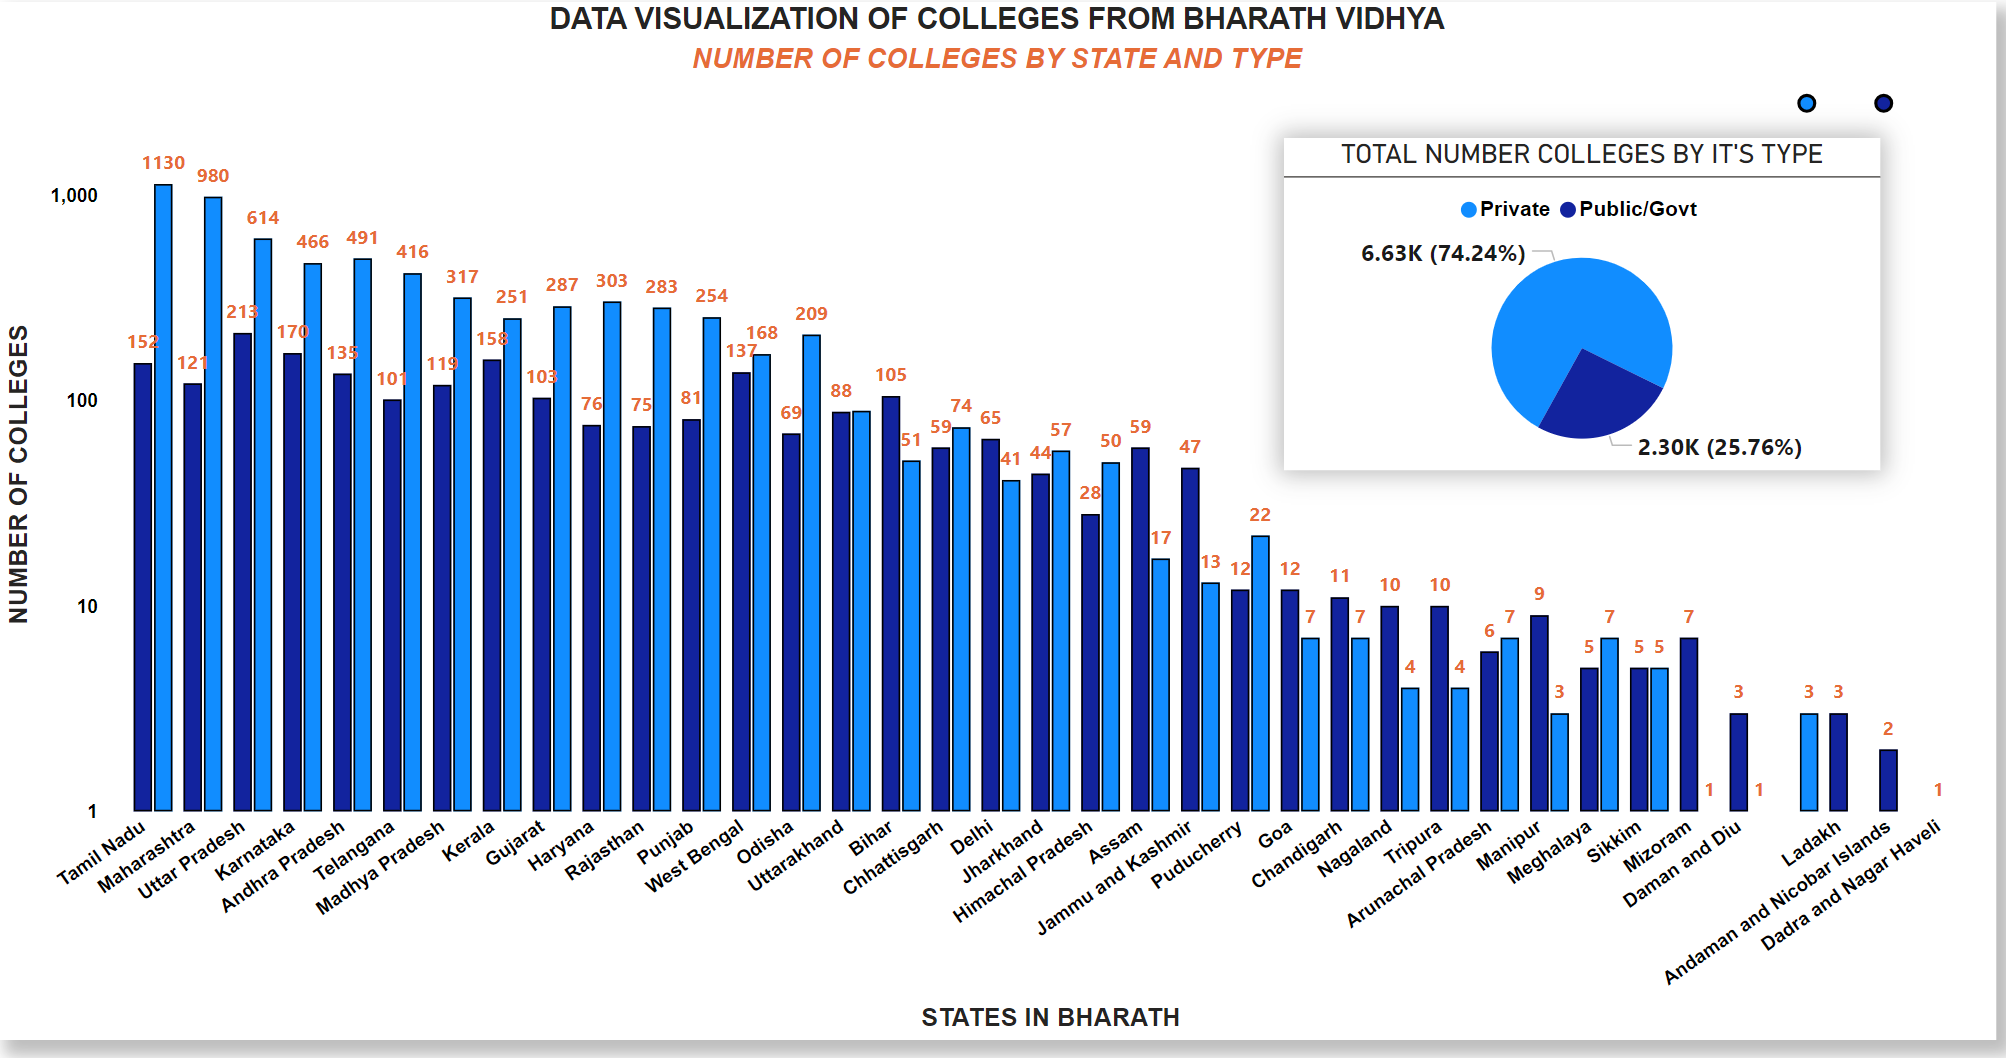

Layout of this report page (visuals, bound fields, positions):
{"tool":"powerbi","page":{"name":"Page 1","canvas":[1280,720],"ordinal":0},"visuals":[{"type":"clusteredColumnChart","title":"DATA VISUALIZATION OF COLLEGES FROM BHARATH VIDHYA","fields":{"Category":["colleges_data.state"],"Y":["CountNonNull(colleges_data.colleges)"],"Series":["colleges_data.type"]},"box":[11.2,10,1231.2,698.8],"z":2},{"type":"pieChart","title":"TOTAL NUMBER COLLEGES BY IT''S TYPE","fields":{"Category":["colleges_data.type"],"Y":["CountNonNull(colleges_data.colleges)"]},"box":[698.8,125,443.8,285],"z":3}]}

Visuals, with their boxes on the page's 1280x720 design canvas (x1, y1, x2, y2). These are canvas units, not pixel positions in the 2006x1058 screenshot, which may show the page scaled, cropped or inside an application window:
"DATA VISUALIZATION OF COLLEGES FROM BHARATH VIDHYA" clusteredColumnChart: Rect(11, 10, 1242, 709)
"TOTAL NUMBER COLLEGES BY IT''S TYPE" pieChart: Rect(699, 125, 1143, 410)
